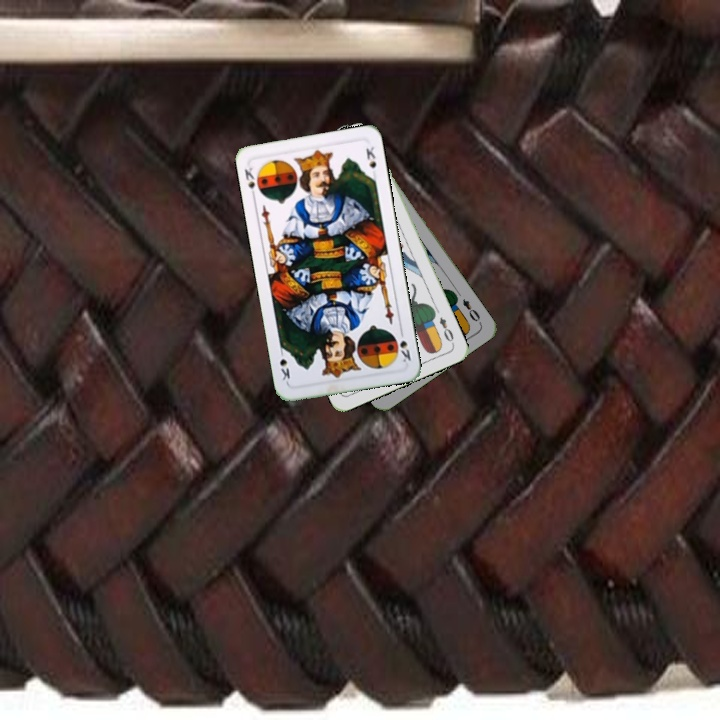EO: (435, 313, 457, 347), (458, 295, 483, 324)
SK: (240, 163, 258, 201), (396, 325, 413, 365)
